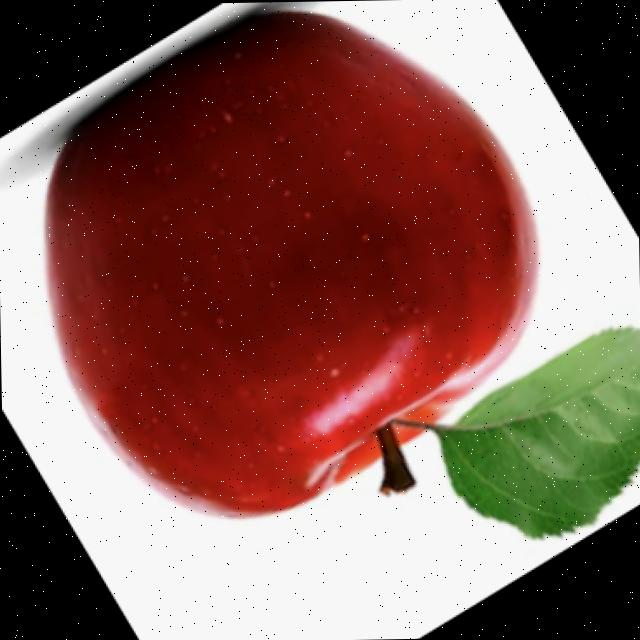Ripe: (32, 0, 553, 529)
